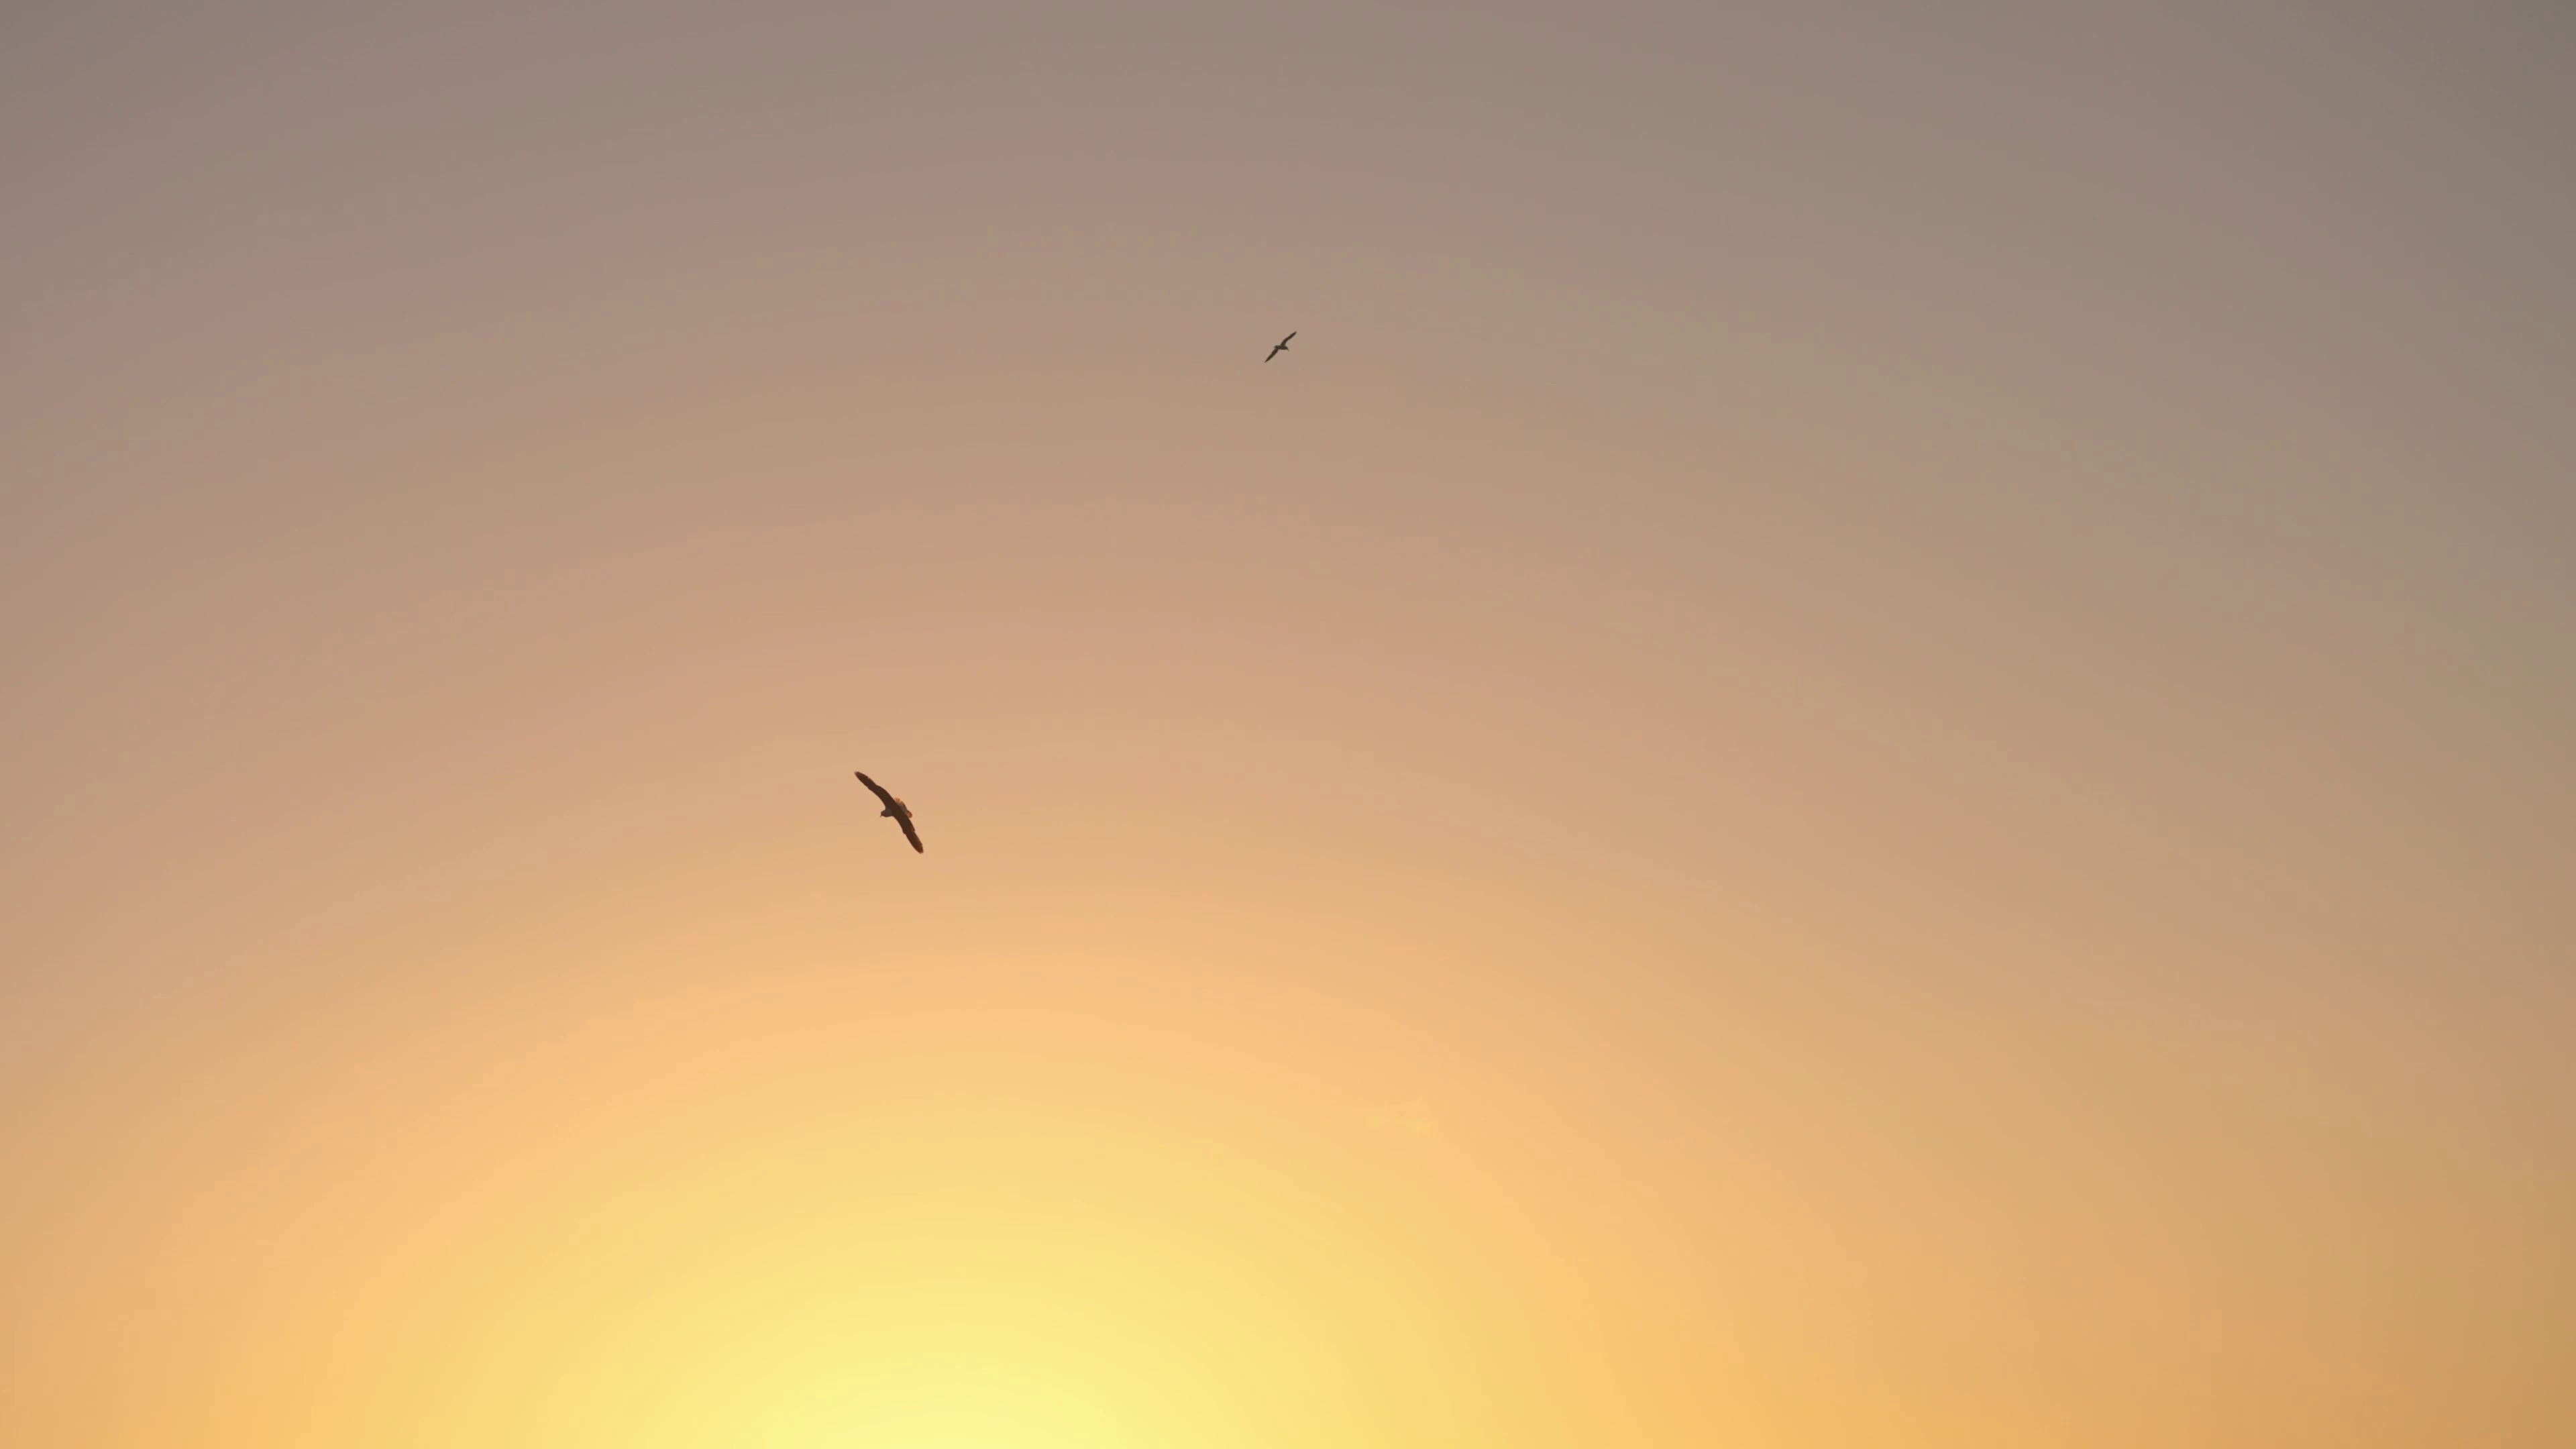bird: (849, 768, 924, 855), (1263, 329, 1299, 366)
